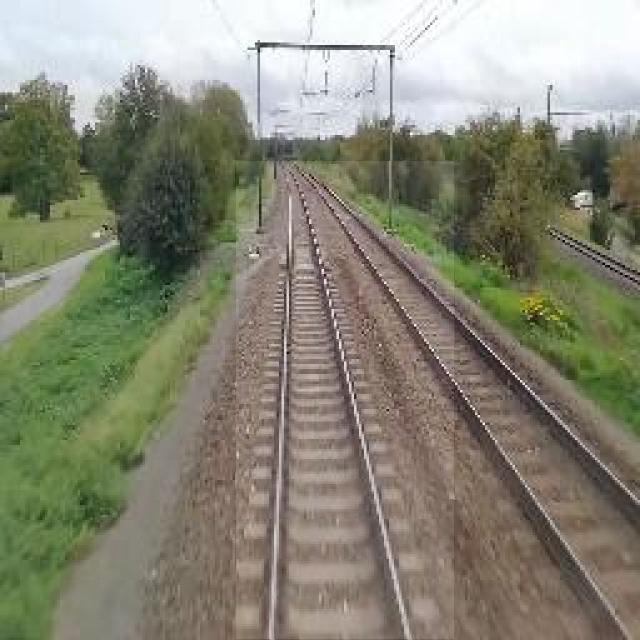rail: (237, 162, 455, 640)
